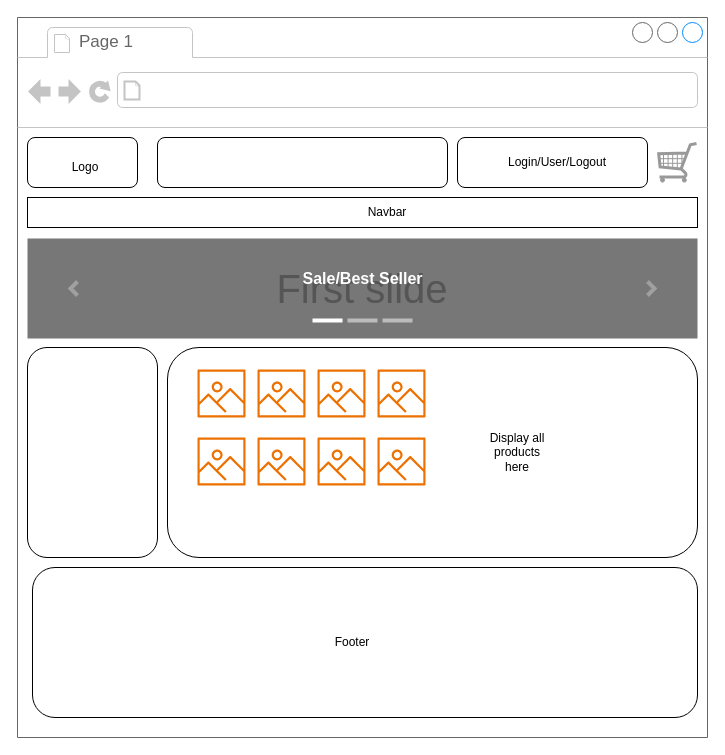
The diagram is 725 pixels wide and 755 high, and some of its shapes have lost their labels. The shapes that lost their labels are listed below. From the top down, each one's centre as x and y in pixels, then its label:
pixel 272 90: https://www.onlinebookstore.com
pixel 302 162: Search Bar
pixel 92 452: Categories
